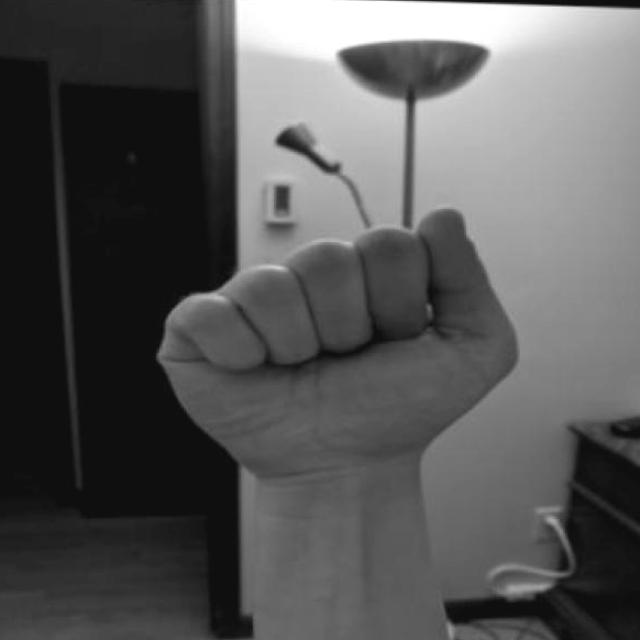A: (140, 199, 524, 539)
